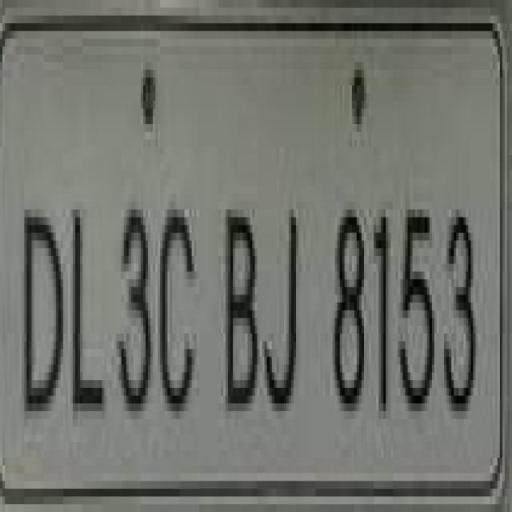number plate: (0, 31, 493, 512)
